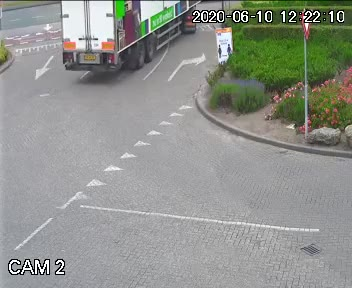car: (57, 0, 195, 86)
